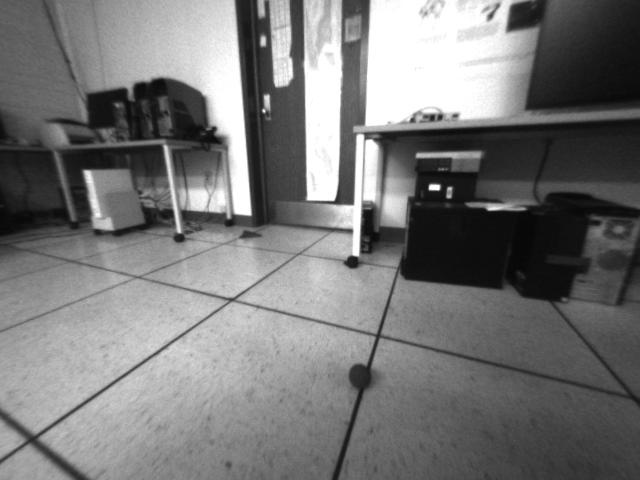dogtoy: (339, 357, 385, 398)
